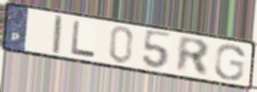0: (108, 25, 135, 65)
5: (141, 28, 174, 72)
G: (212, 43, 246, 82)
I: (51, 14, 64, 56)
L: (70, 19, 98, 59)
R: (176, 34, 212, 79)
